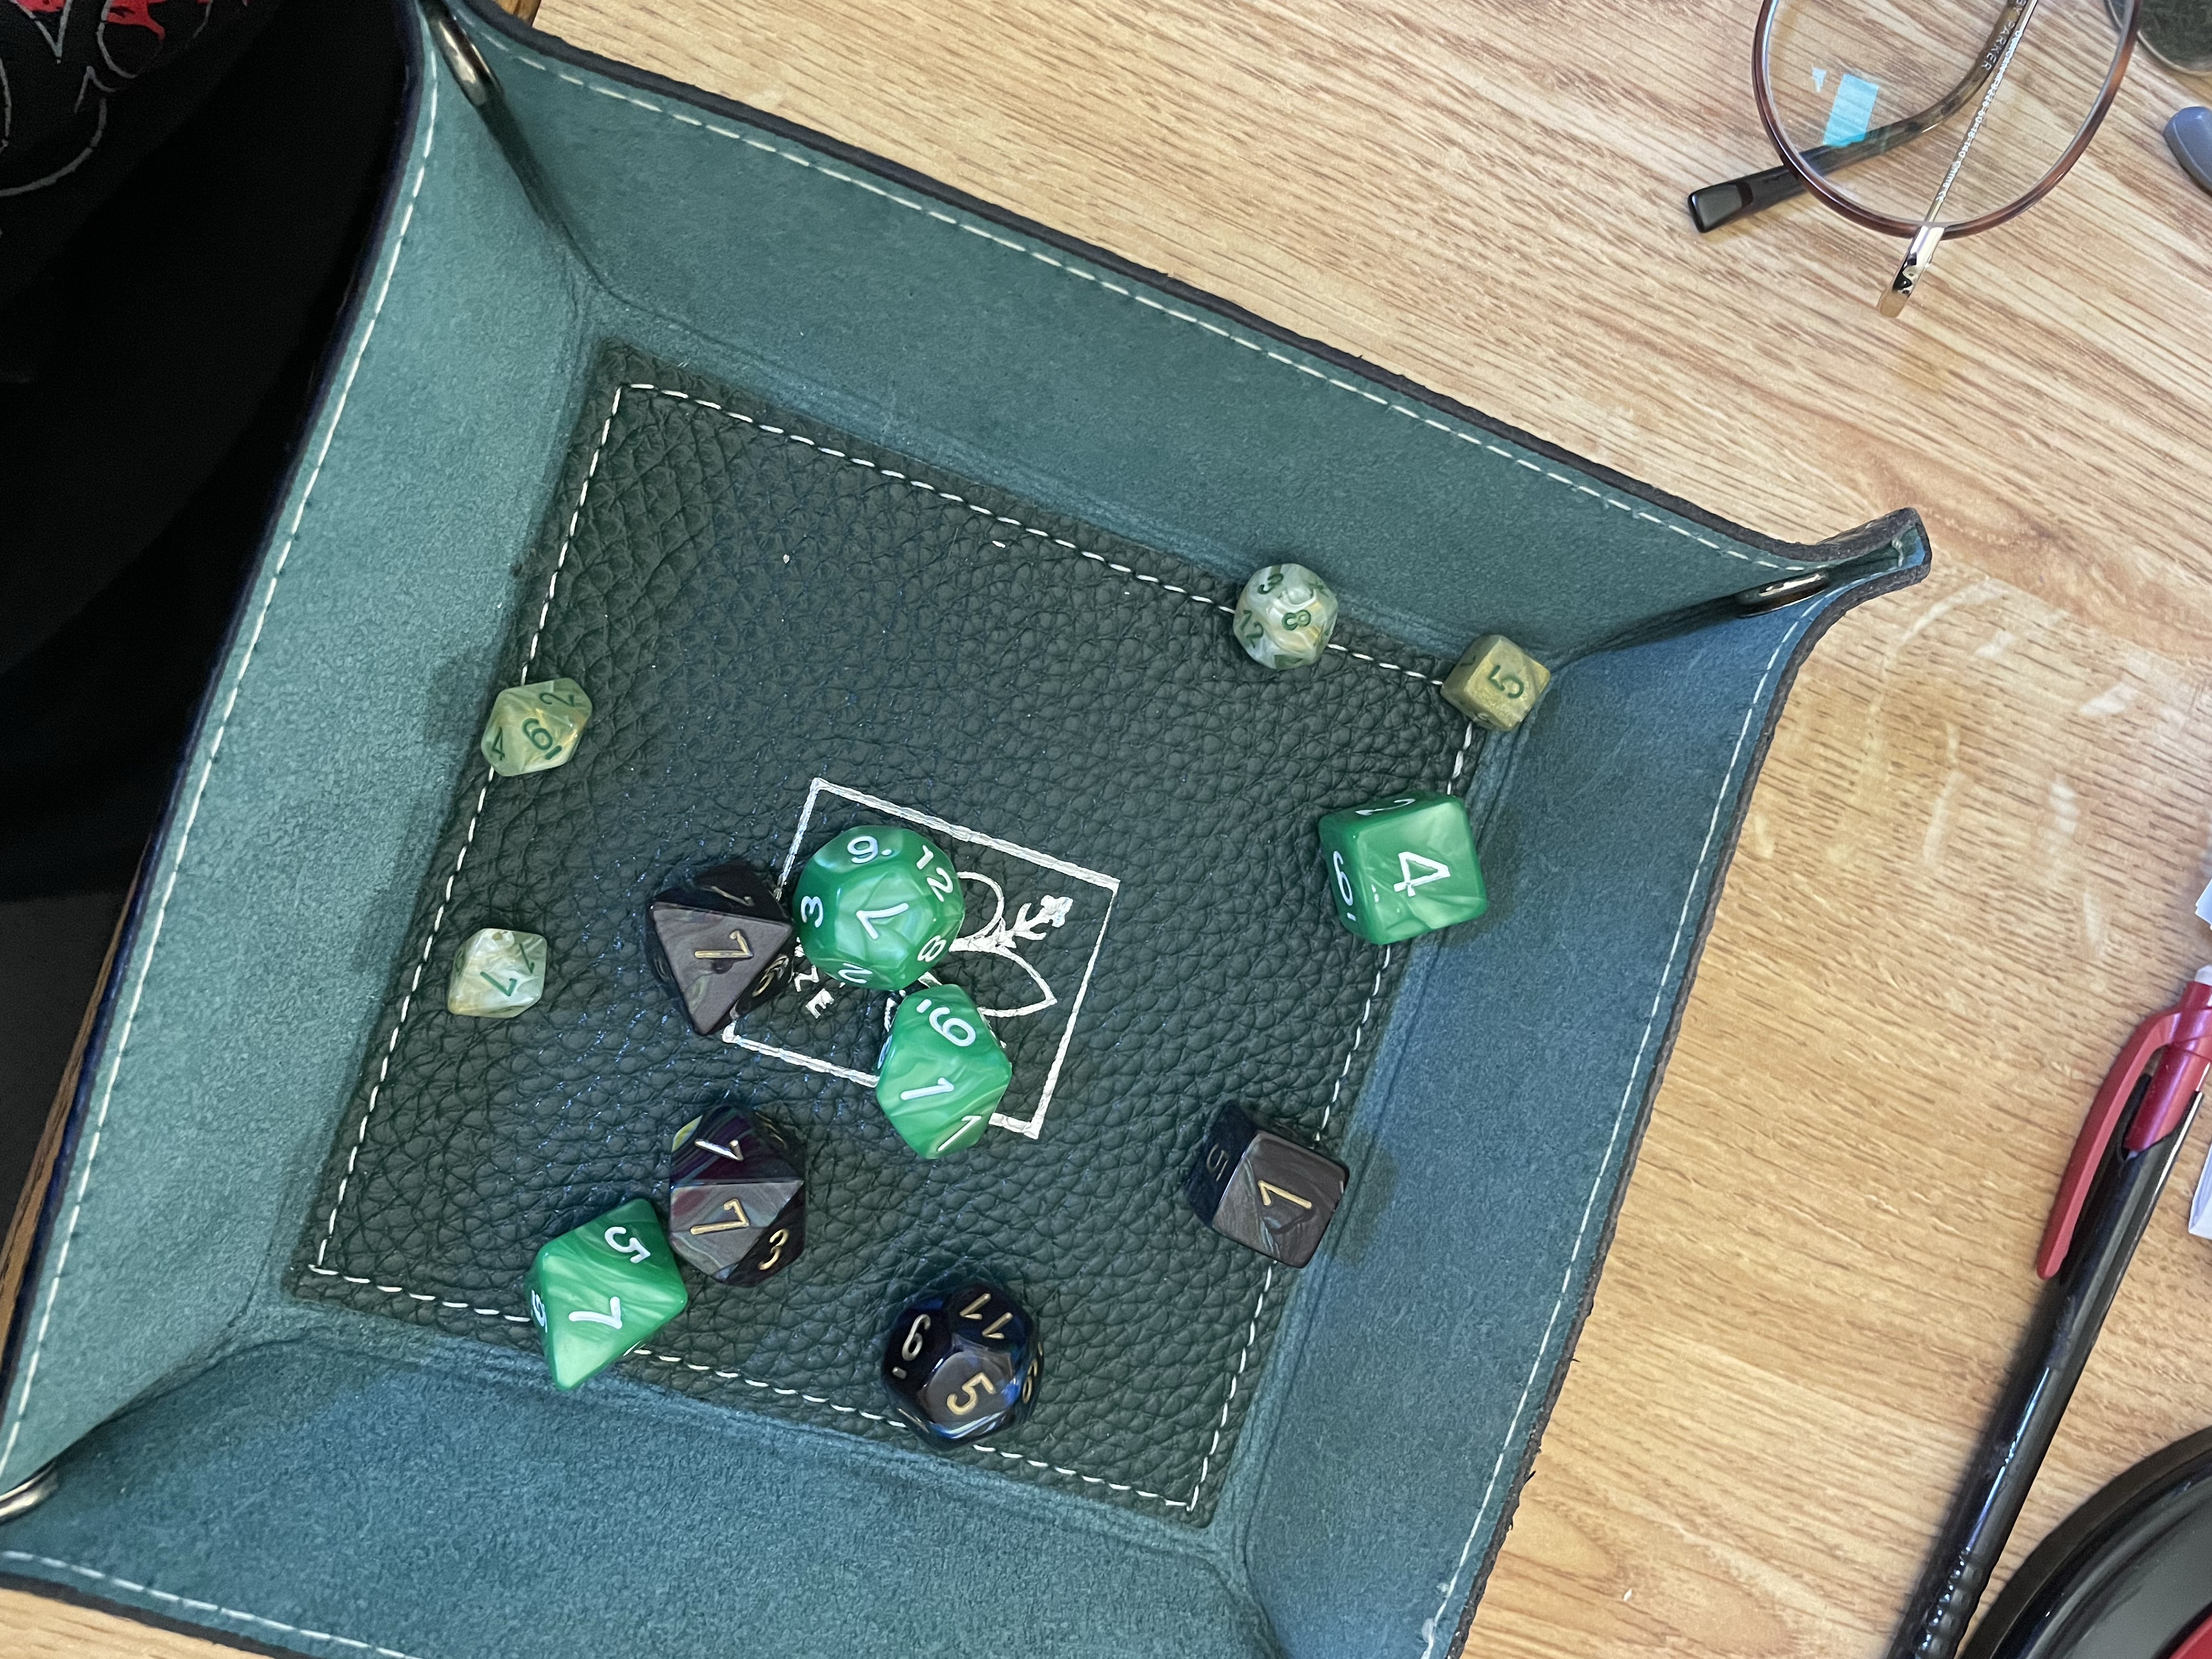eight: (1211, 545, 1366, 688)
five: (860, 1265, 1066, 1462), (1418, 605, 1566, 744)
four: (1287, 784, 1517, 969)
one: (1165, 1077, 1364, 1304), (855, 969, 1029, 1187)
seven: (493, 1194, 709, 1405), (632, 1084, 834, 1304), (789, 814, 986, 1025), (625, 849, 806, 1039), (423, 885, 573, 1044)
six: (453, 664, 615, 782)
